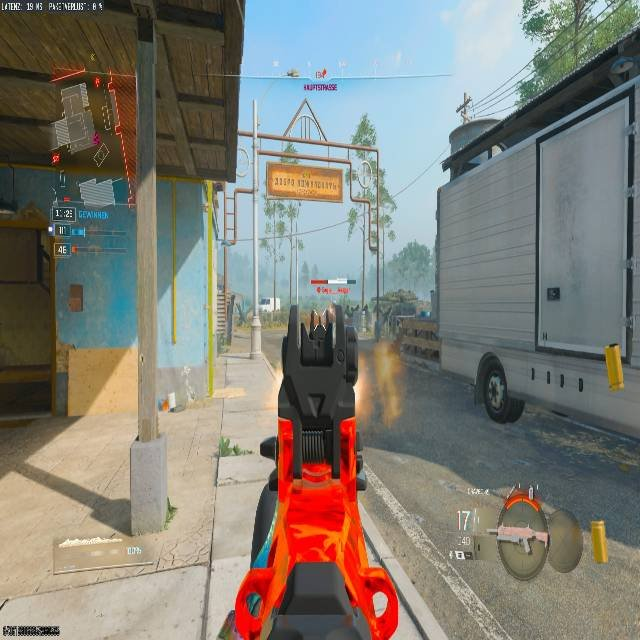player: (322, 301, 336, 339)
